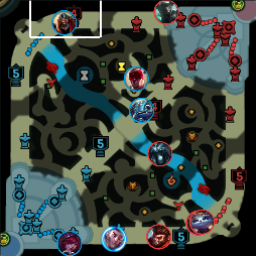fizz: (129, 96, 153, 123)
karthus: (147, 140, 171, 165)
leesin: (123, 66, 148, 89)
monkeyking: (145, 223, 170, 248)
mordekaiser: (154, 1, 178, 24)
rakan: (102, 227, 124, 249)
xayah: (57, 231, 80, 254)
yuumi: (188, 209, 213, 233)
zed: (50, 9, 76, 34)
